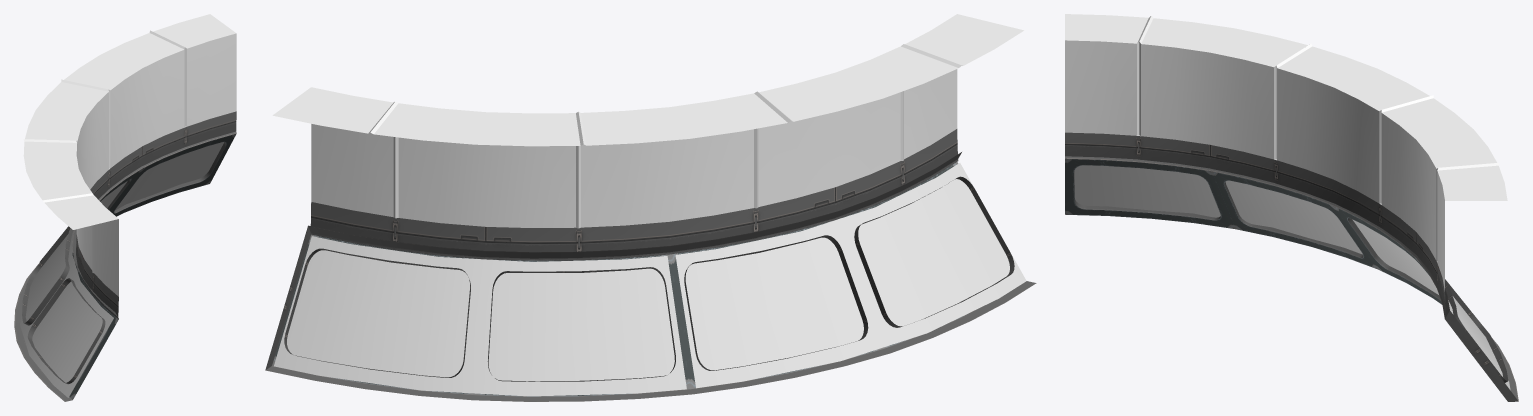
Rendered from TopWindow_Corner_Curve_Inner.gltf.
3 renders of one model, left to right at view 1: azimuth 30°, elevation 25°; view 2: azimuth 150°, elevation 25°; view 3: azimuth 270°, elevation 25°, orthographic. The views are drawn at different scales.
Visible parts, largest first — view 1: TopWindow_Corner_Curve_Inner; view 2: TopWindow_Corner_Curve_Inner; view 3: TopWindow_Corner_Curve_Inner.
Boxes of the visible parts, bbox=[...] form: TopWindow_Corner_Curve_Inner: bbox=[14, 14, 236, 401]; TopWindow_Corner_Curve_Inner: bbox=[265, 14, 1036, 401]; TopWindow_Corner_Curve_Inner: bbox=[1065, 14, 1518, 401].
Size of the model in its own units: 4.1 by 2.02 by 4.1.
4 materials, 2 textured.
